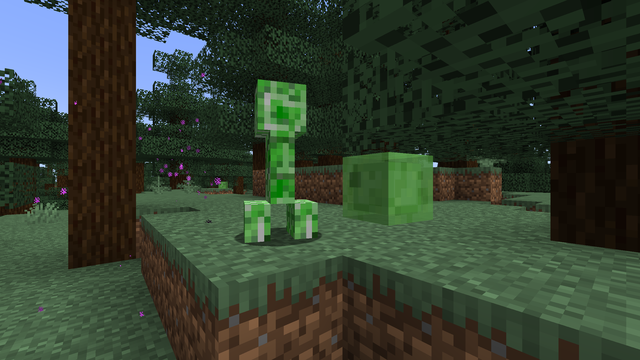creepers: (242, 66, 316, 243)
slimes: (340, 151, 432, 225), (218, 181, 227, 188)
